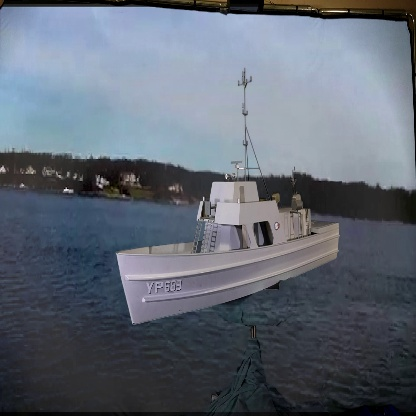YP689: (112, 73, 355, 325)
